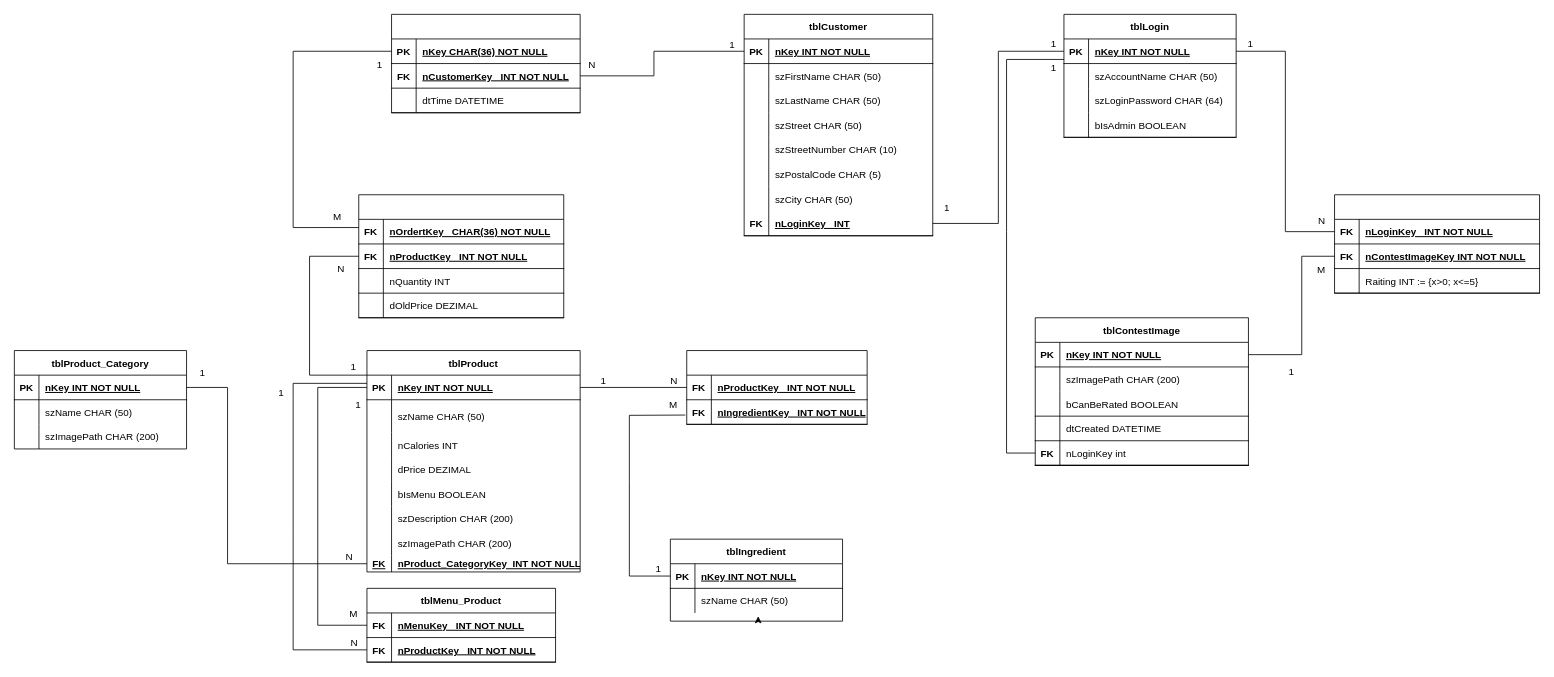
Some shapes in this 1554 by 677 pixel diagram are drawn without their labels. The box of each missing label's shape, as (x1, y1, x2, y2) in pixels:
tblContestRatings: (1334, 194, 1540, 293)
tblOrder: (391, 14, 580, 113)
tblOrder_Product: (358, 194, 564, 318)
tblProduct_Ingredient: (686, 350, 867, 424)
